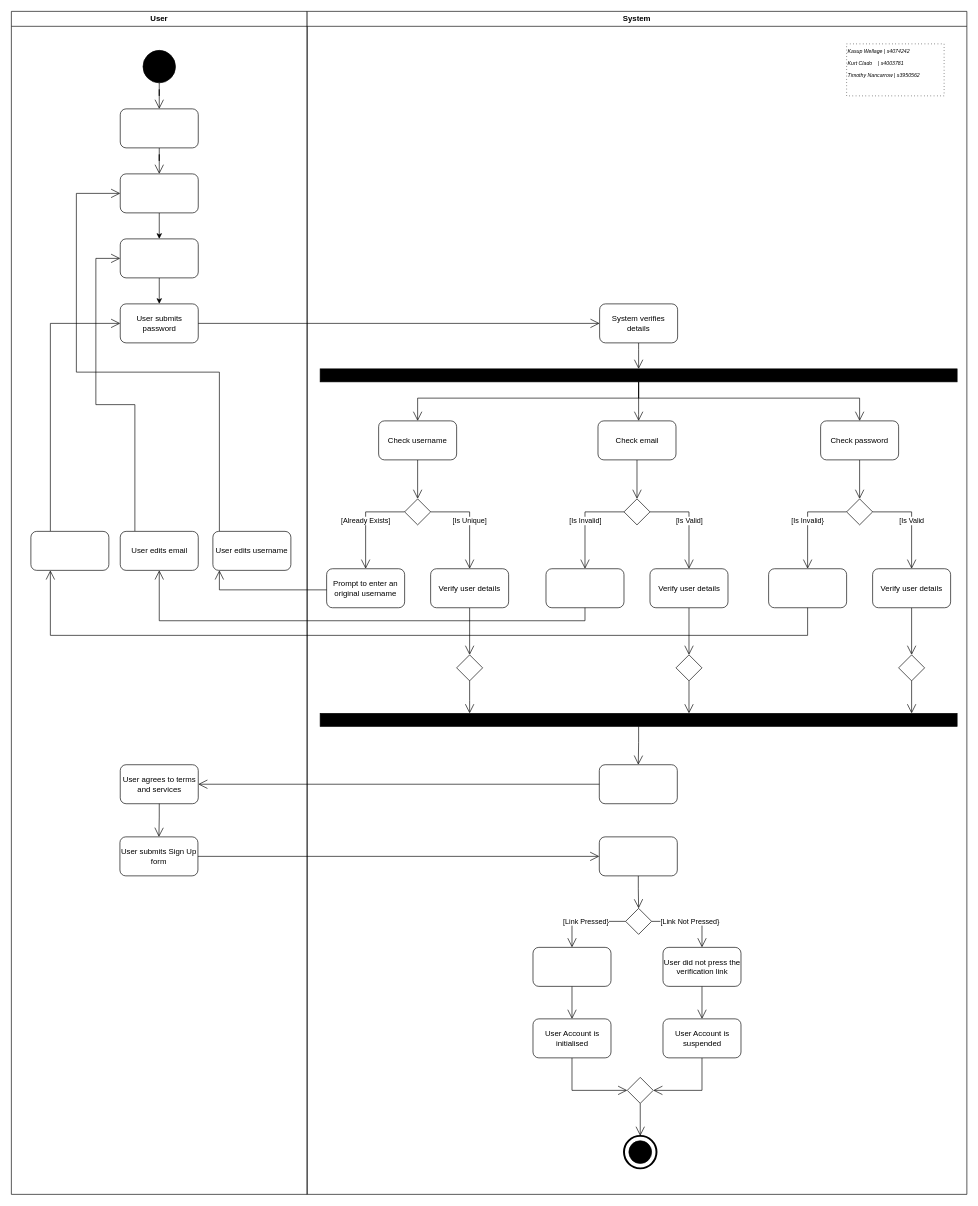
Some shapes in this 978 by 1206 pixel diagram are drawn without their labels. The centre of each missing label's shape, as x and y in pixels:
"Creates a new user and stores the information" belongs at (638,856).
"Present terms of service" belongs at (638,784).
"Prompt user to enter a valid email" belongs at (584,588).
"Prompt user to enter a valid, secure password" belongs at (807,588).
"User edits password" belongs at (69,550).
"User navigates to the sign up page" belongs at (159,128).
"User pressed verification link" belongs at (571,966).
"User submits email" belongs at (159,258).
"User submits username" belongs at (159,193).
